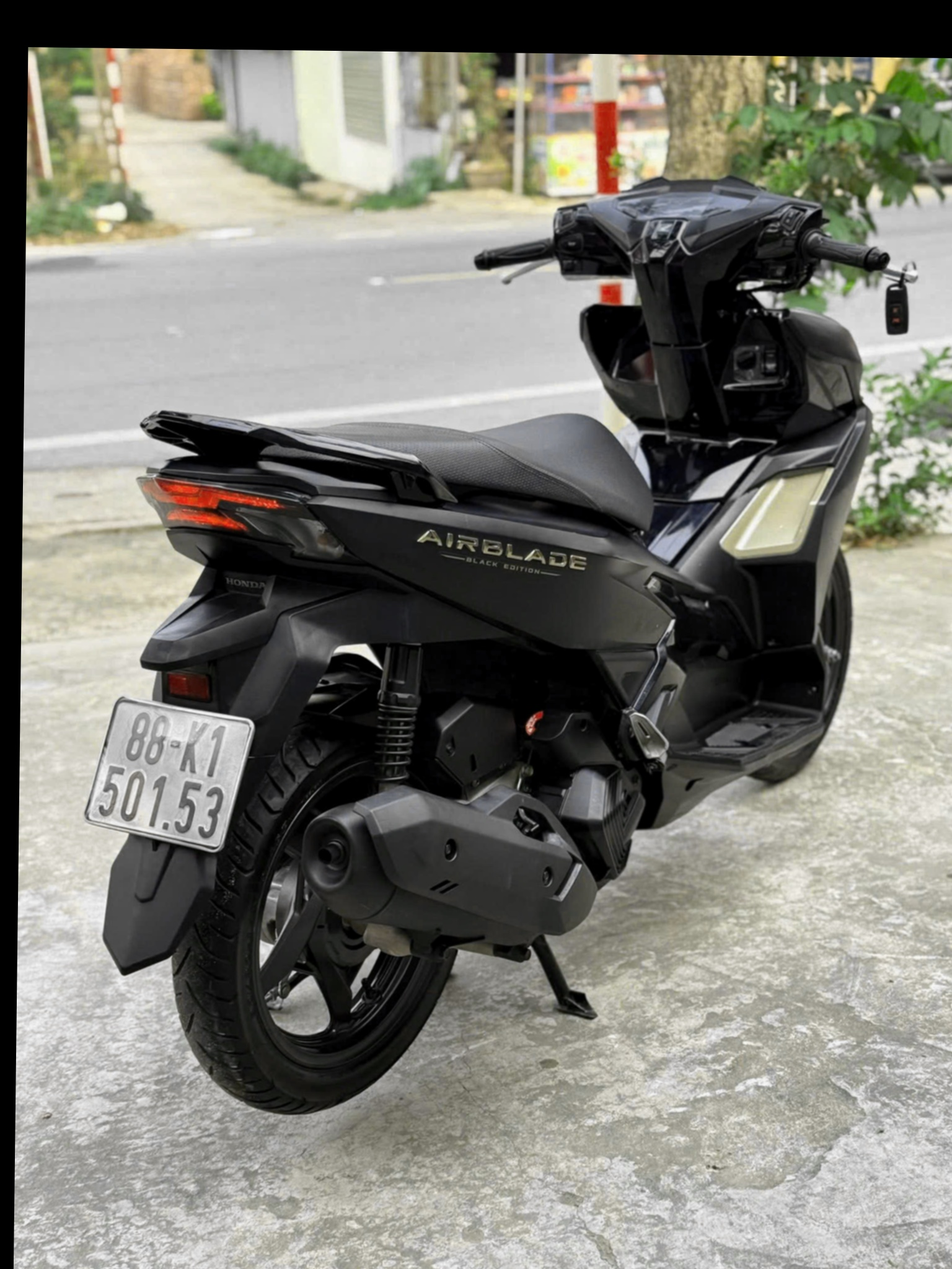Bien-so: (46, 650, 239, 831)
